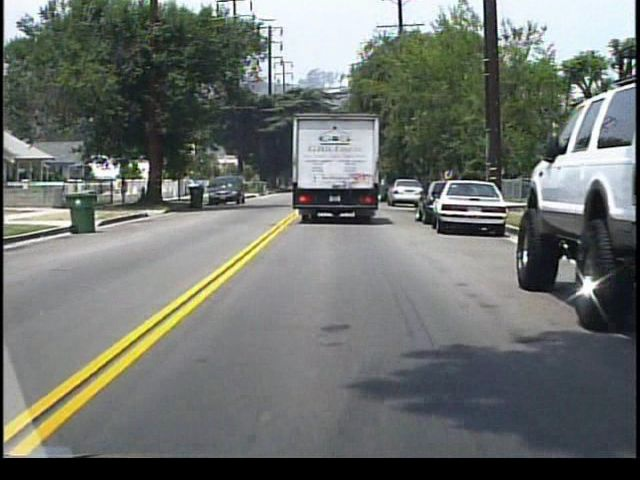person: (119, 175, 131, 206)
